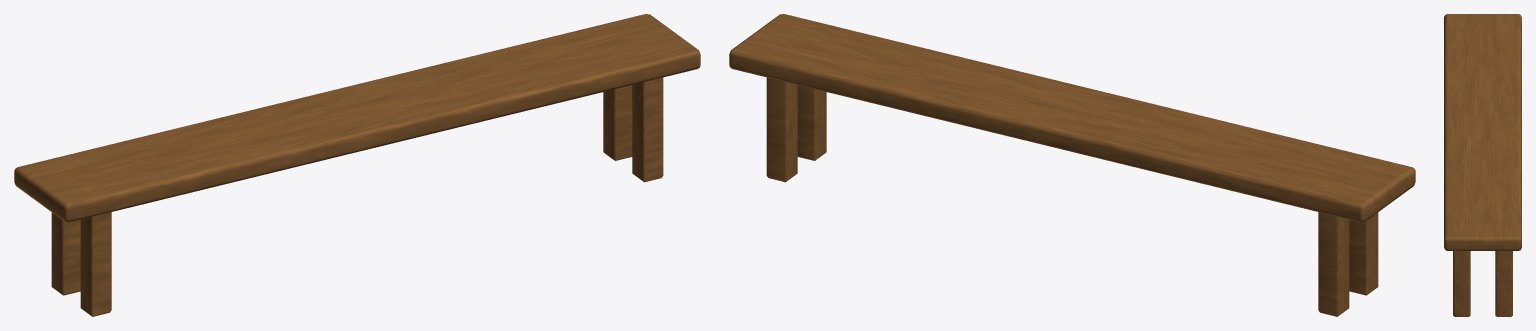
File: Furn_CafeteriaBench.fbx
3 renders of one model, left to right at view 1: azimuth 30°, elevation 25°; view 2: azimuth 150°, elevation 25°; view 3: azimuth 270°, elevation 25°, orthographic. The views are drawn at different scales.
Visible parts, largest first — view 1: Furn_CafeteriaBench_Mesh; view 2: Furn_CafeteriaBench_Mesh; view 3: Furn_CafeteriaBench_Mesh.
Boxes of the visible parts, bbox=[...] form: Furn_CafeteriaBench_Mesh: bbox=[14, 14, 700, 316]; Furn_CafeteriaBench_Mesh: bbox=[729, 14, 1415, 316]; Furn_CafeteriaBench_Mesh: bbox=[1444, 14, 1521, 316].
Size of the model in its own units: 2.4 by 0.45 by 0.35.
Materials: 1 (1 with a texture image).
